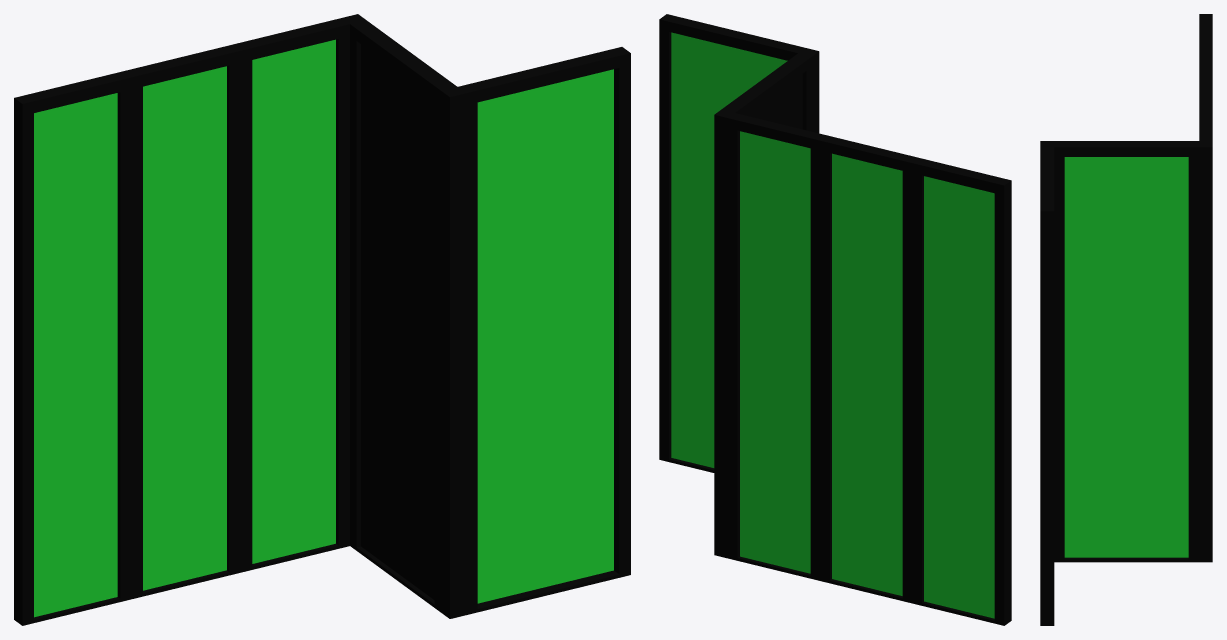
The model's file is Wall_Loby3.fbx.
3 renders of one model, left to right at view 1: azimuth 30°, elevation 25°; view 2: azimuth 150°, elevation 25°; view 3: azimuth 270°, elevation 25°, orthographic. The views are drawn at different scales.
Parts seen in each view (by area): view 1: wall:wall_nextto_stair; view 2: wall:wall_nextto_stair; view 3: wall:wall_nextto_stair.
Boxes of the visible parts, <box> form: wall:wall_nextto_stair: <box>14,14,630,625</box>; wall:wall_nextto_stair: <box>659,14,1011,625</box>; wall:wall_nextto_stair: <box>1040,14,1212,625</box>.
Size of the model in its own units: 400 by 393 by 148.
